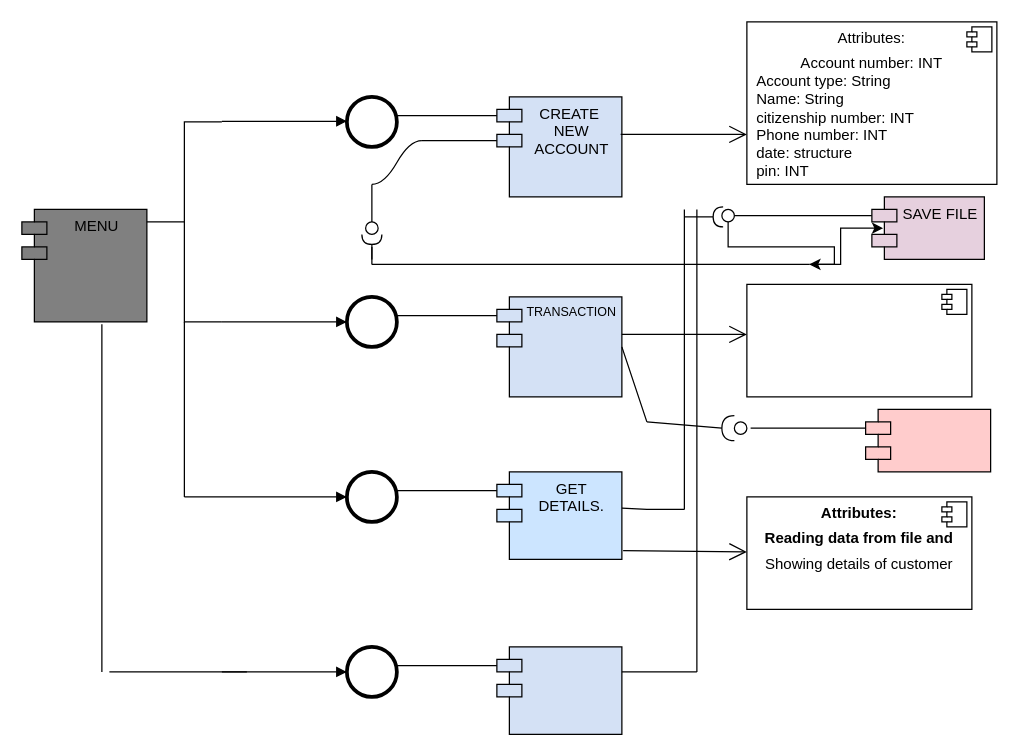
This 1019x756 diagram has some shape labels left out. Each missing label, with the centre of its shape:
"Attributes: deposit: INT(to deposit amount) Withdraw: INT (to withdraw amount)" goes at (859,340).
"READ FILE" goes at (927,440).
"UPDATE AFTER TRANSACTION" goes at (559,690).
